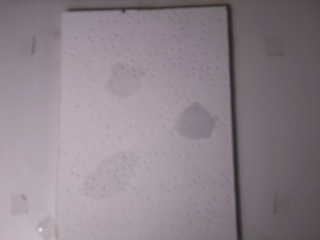Water_detected: (104, 152, 141, 190), (182, 118, 216, 142), (110, 68, 138, 88)
